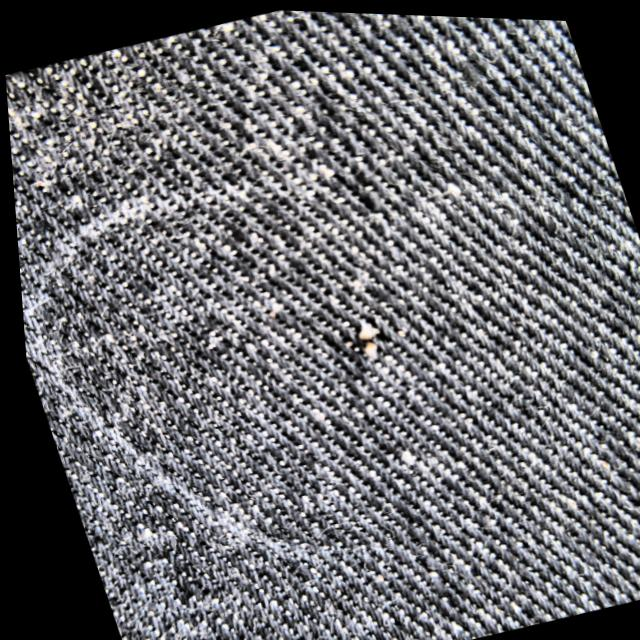Hole: (300, 272, 418, 390)
